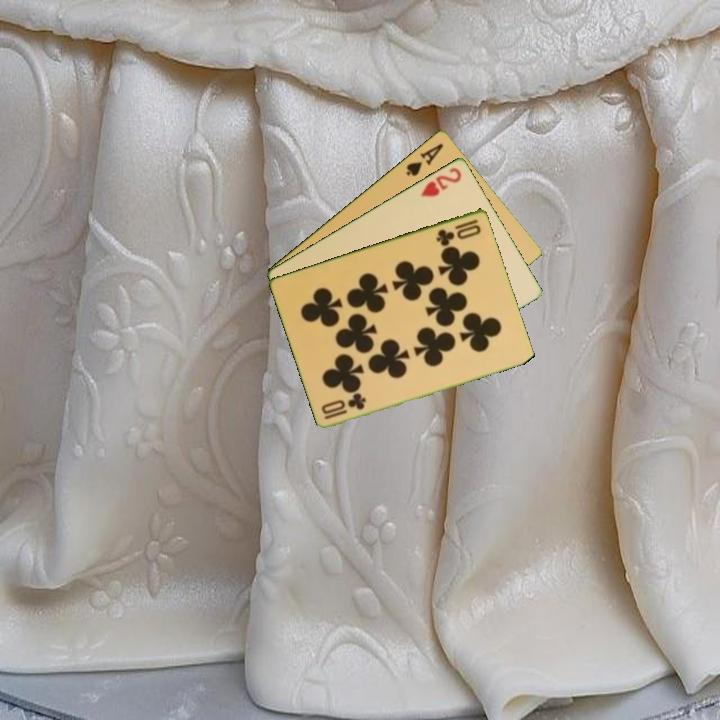10c: (433, 215, 484, 248), (321, 391, 369, 422)
2h: (417, 163, 465, 200)
As: (402, 139, 446, 179)
